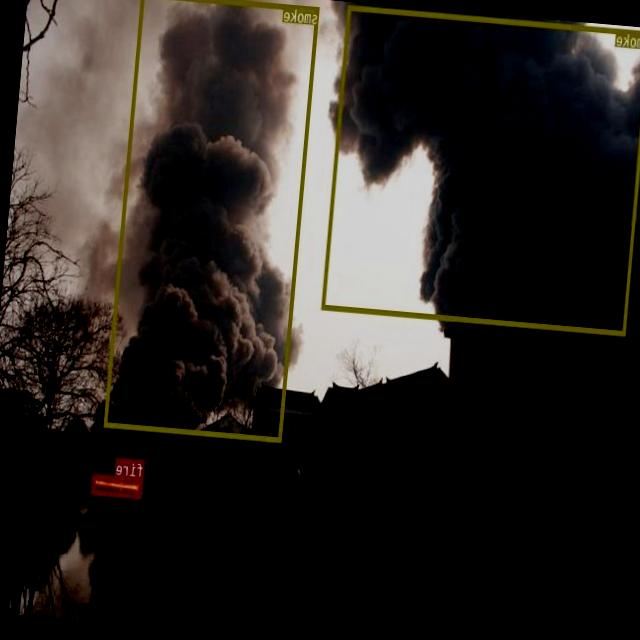fire: (92, 473, 144, 497)
smoke: (322, 4, 640, 335), (104, 0, 319, 441)
